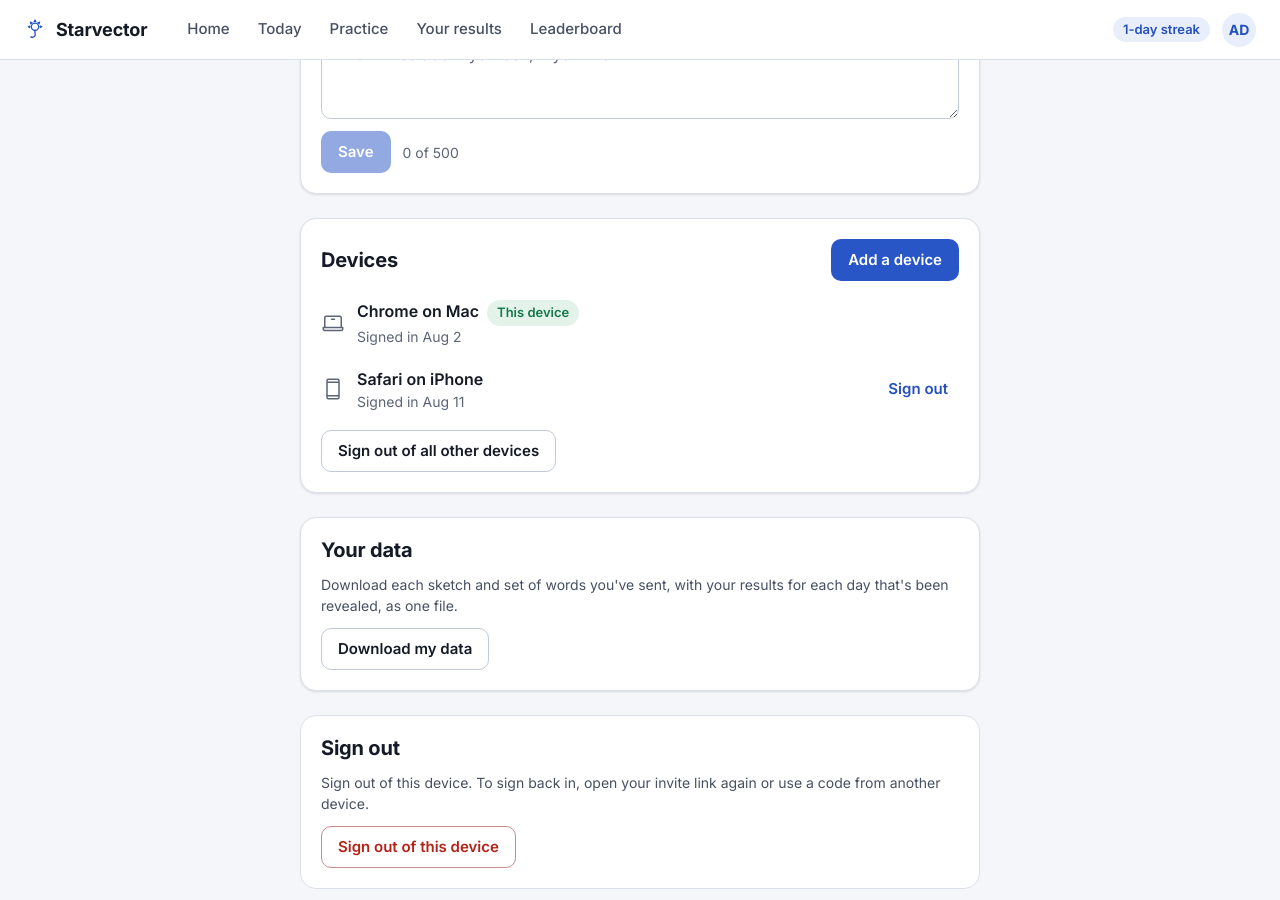
it: devices and sign-out (spec BR1 §4) › signs the other devices out
(page scrolled)
Click the button "Sign out of all other devices" at coordinates (439, 451), box [321, 430, 556, 472]
(page scrolled)
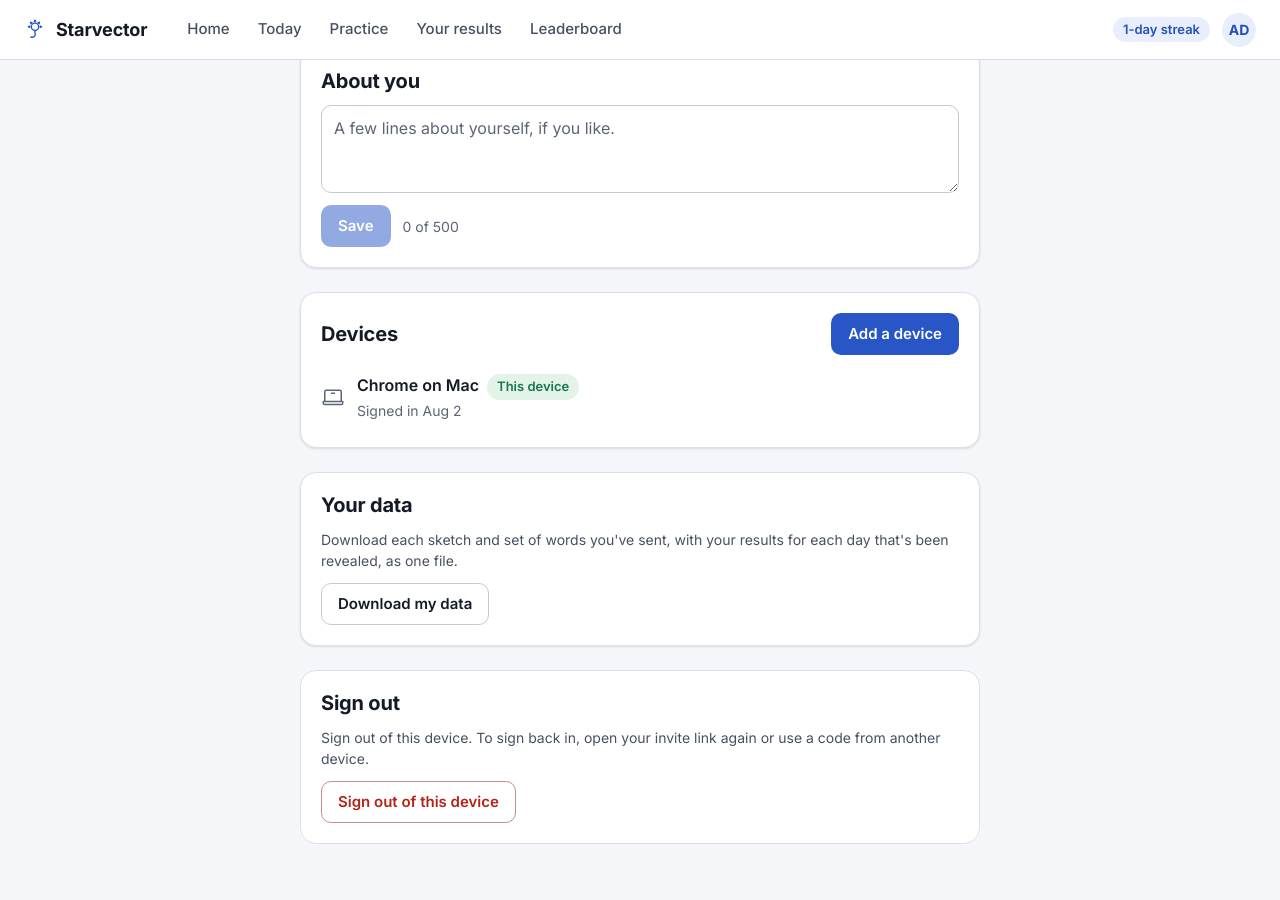
Check: the text "Safari on iPhone" is gone
